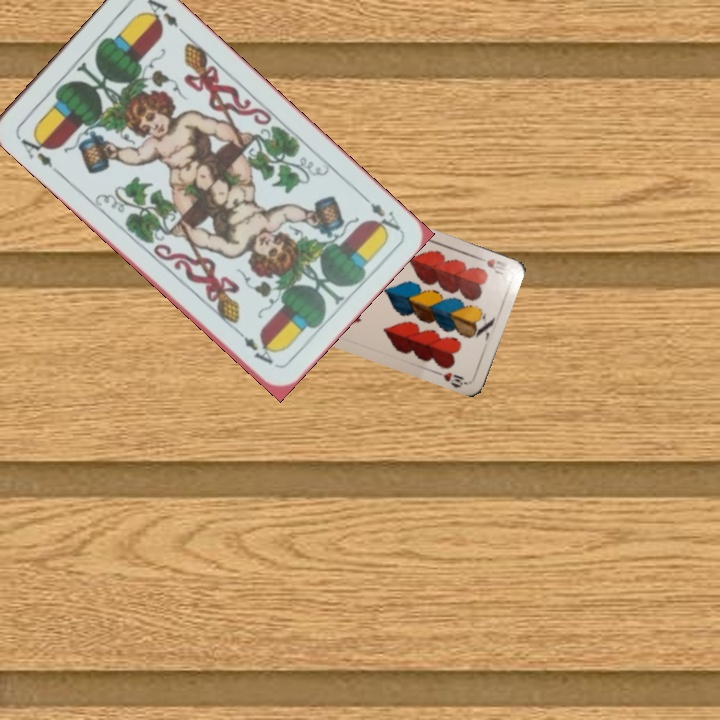EA: (14, 127, 62, 176), (355, 189, 404, 237)
H10: (472, 252, 513, 277)
